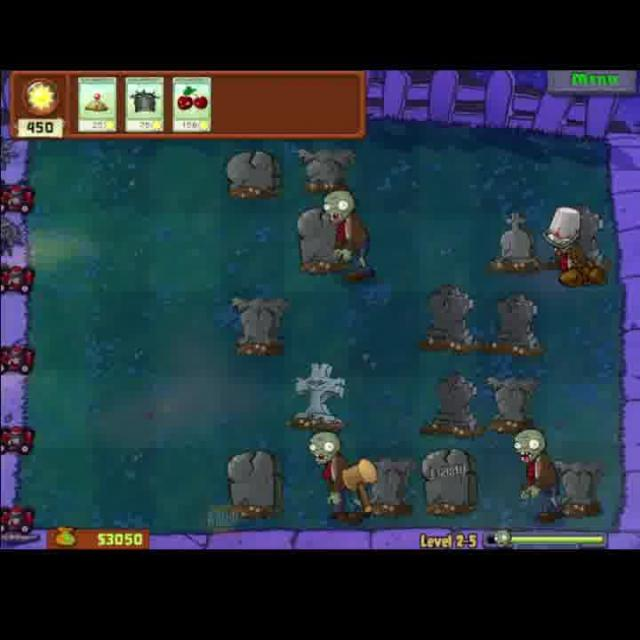coins: (302, 422, 366, 526), (503, 422, 566, 522), (318, 185, 374, 279), (537, 204, 595, 284)
